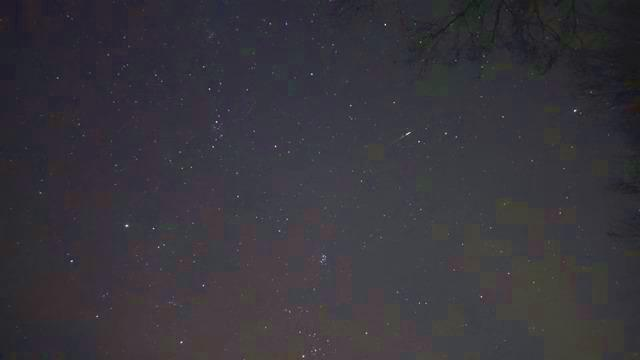meteorite: (385, 127, 421, 145)
